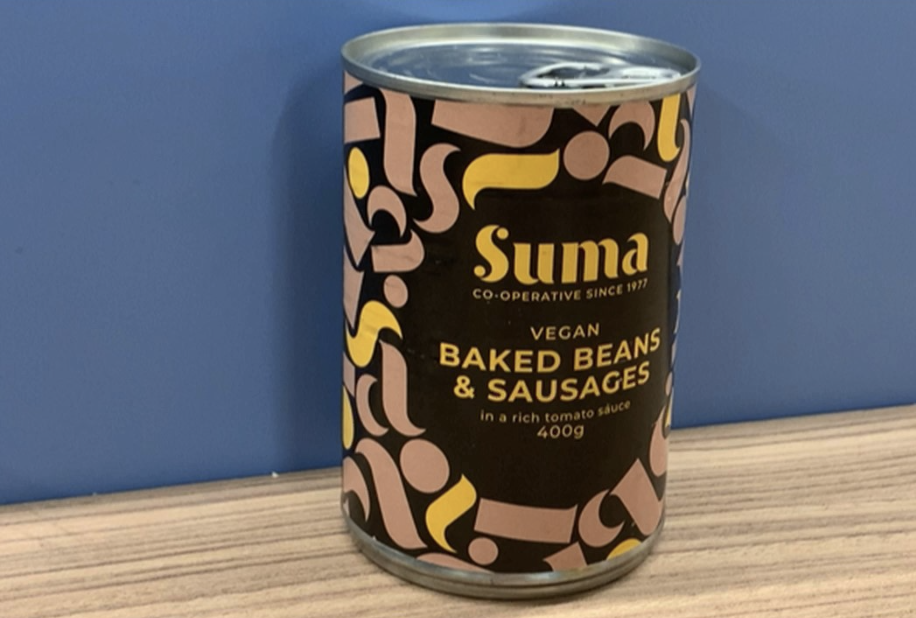Baked beans_400-499g: (364, 152, 657, 539)
